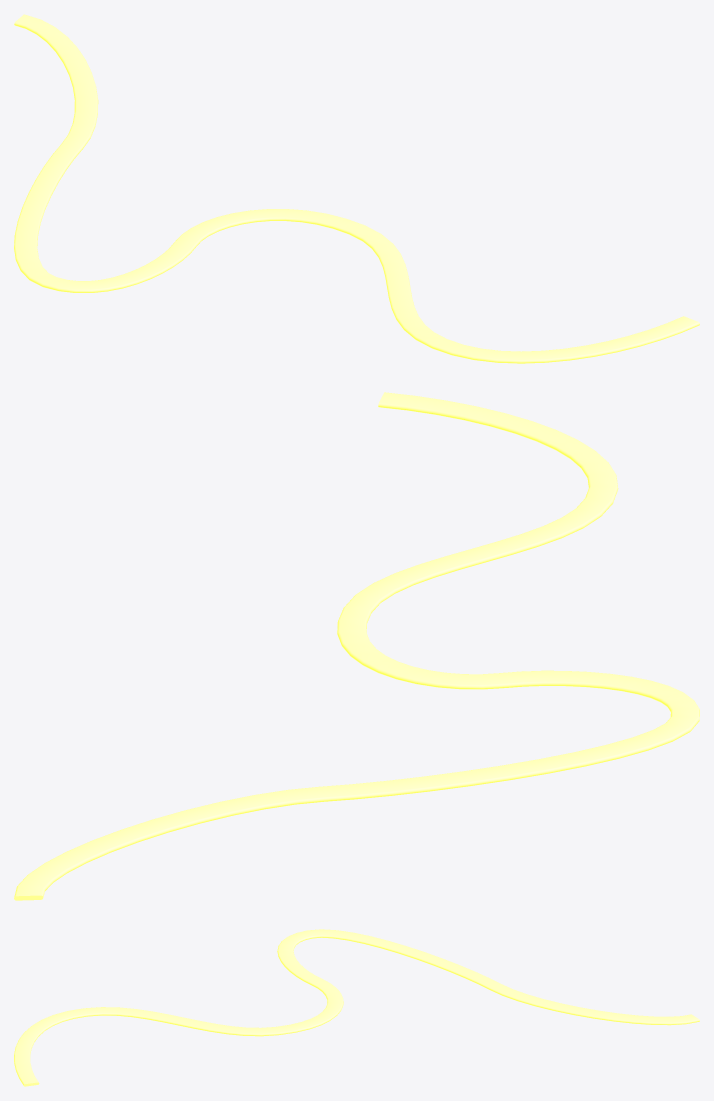
File: pont.glb
The picture shows the model from 3 angles, top to bottom: view 1: azimuth 30°, elevation 25°; view 2: azimuth 150°, elevation 25°; view 3: azimuth 270°, elevation 25°; orthographic projection. The views are drawn at different scales.
Parts seen in each view (by area): view 1: BézierCurve; view 2: BézierCurve; view 3: BézierCurve.
Part boxes in pixels (left/top/right/bottom): BézierCurve: left=14, top=14, right=699, bottom=363; BézierCurve: left=14, top=392, right=699, bottom=900; BézierCurve: left=14, top=929, right=699, bottom=1086.
Size of the model in its own units: 82.86 by 0.6116 by 155.
